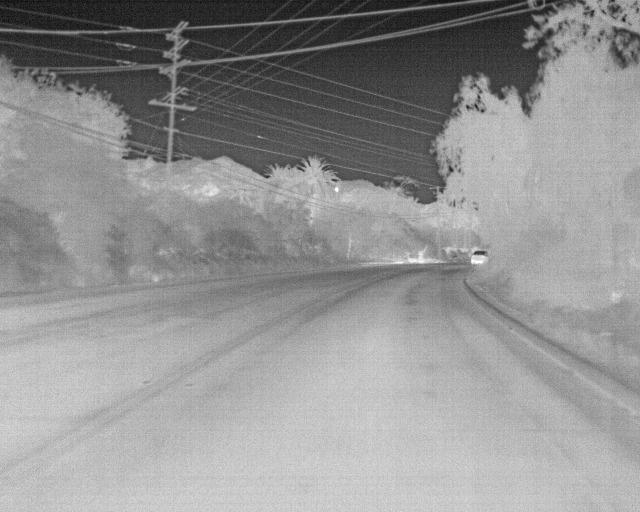car: (464, 250, 485, 266)
